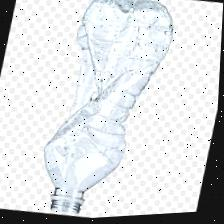plastic: (46, 0, 174, 215)
